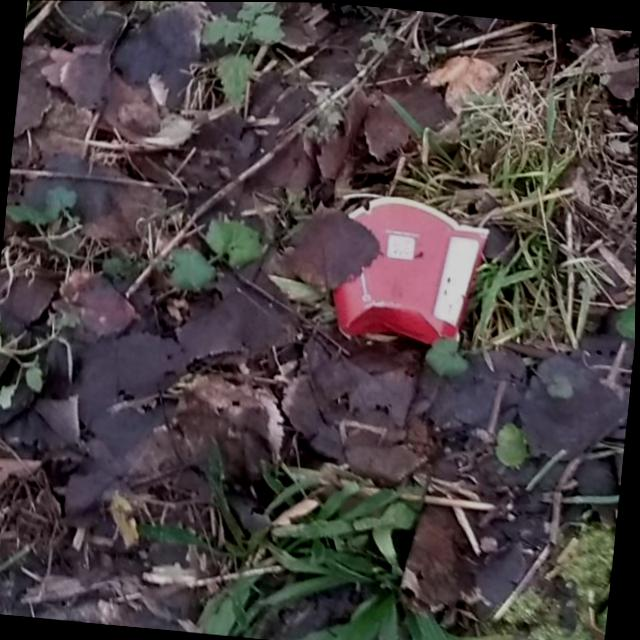Paper: (328, 186, 495, 352)
